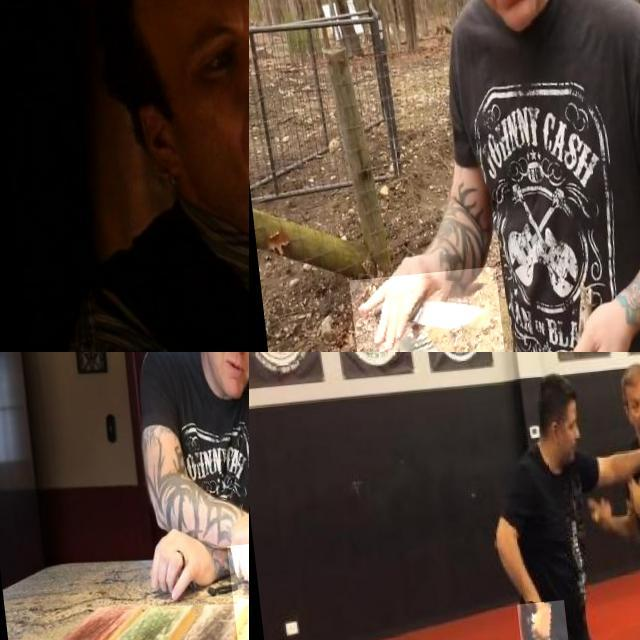-: (338, 271, 492, 352), (217, 545, 249, 640), (508, 606, 562, 640)
